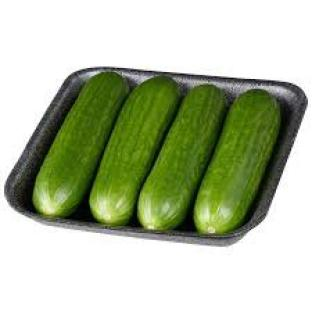Cucumber: (34, 73, 128, 217), (89, 77, 178, 226), (138, 85, 226, 230), (195, 89, 281, 234)
